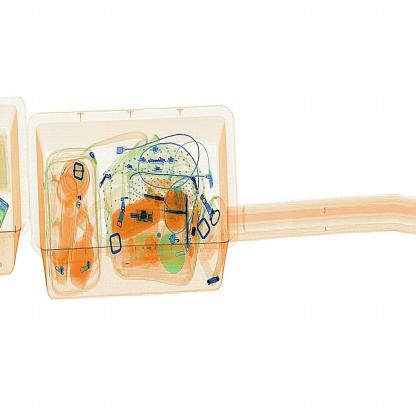knife: (177, 193, 197, 255)
